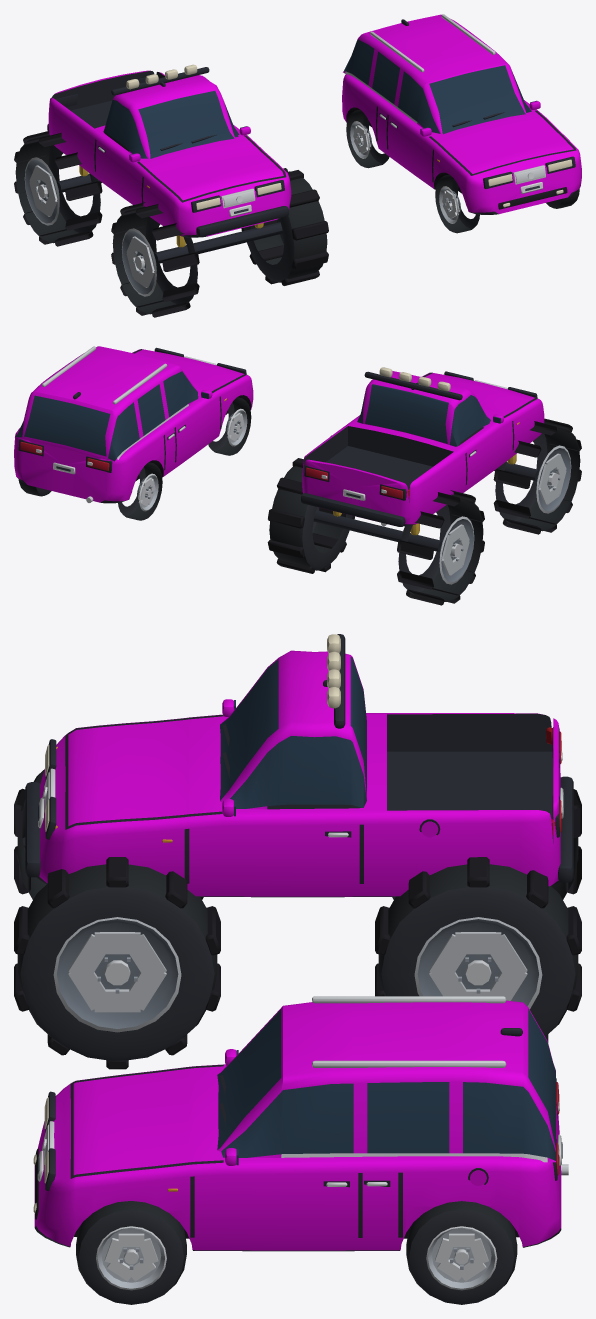
Rendered from cars-big.glb.
3 renders of one model, top to bottom at view 1: azimuth 30°, elevation 25°; view 2: azimuth 150°, elevation 25°; view 3: azimuth 270°, elevation 25°, orthographic. The views are drawn at different scales.
Visible parts, largest first — view 1: luxury_mesh, monster_mesh, monster, luxury; view 2: monster_mesh, luxury_mesh, monster, luxury; view 3: luxury_mesh, monster_mesh, monster, luxury.
Part boxes in pixels (x1,y1,x2,y2): luxury_mesh: (342, 14, 581, 214); monster_mesh: (47, 64, 291, 264); monster: (14, 130, 328, 317); luxury: (346, 109, 579, 233); monster_mesh: (301, 367, 544, 552); luxury_mesh: (14, 346, 253, 503); monster: (267, 418, 581, 605); luxury: (18, 397, 251, 520); luxury_mesh: (33, 996, 568, 1251); monster_mesh: (25, 634, 573, 897); monster: (14, 769, 581, 1069); luxury: (76, 1201, 517, 1304).
Bounding box in the file's own units: 6.7 × 2.64 × 4.09.
